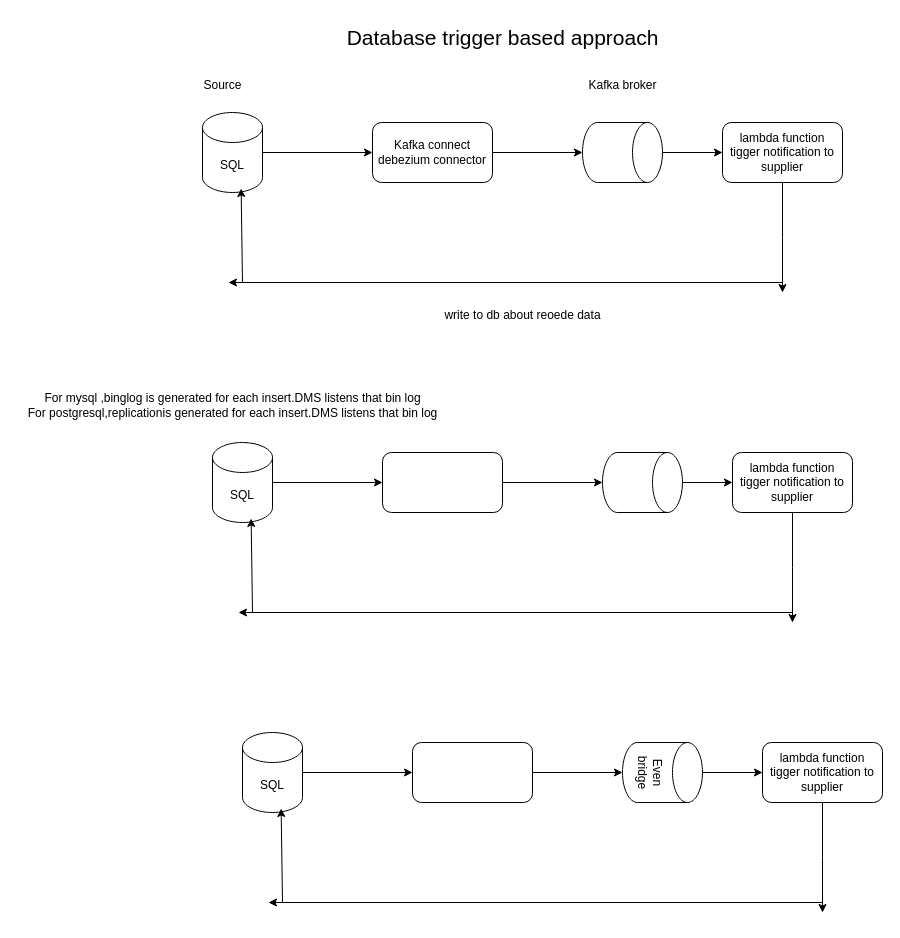
The diagram is 900 pixels wide and 938 high, and some of its shapes have lost their labels. Here are the shapes that lost their labels. From the top down, the box of each, then its label:
(382, 452, 502, 512): DMS
(602, 452, 682, 512): AWS kinesis
(412, 742, 532, 802): AWS DMS
